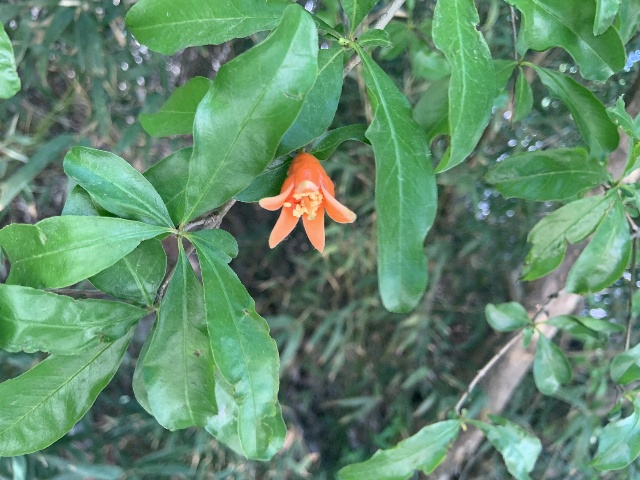flower: (259, 152, 356, 252)
